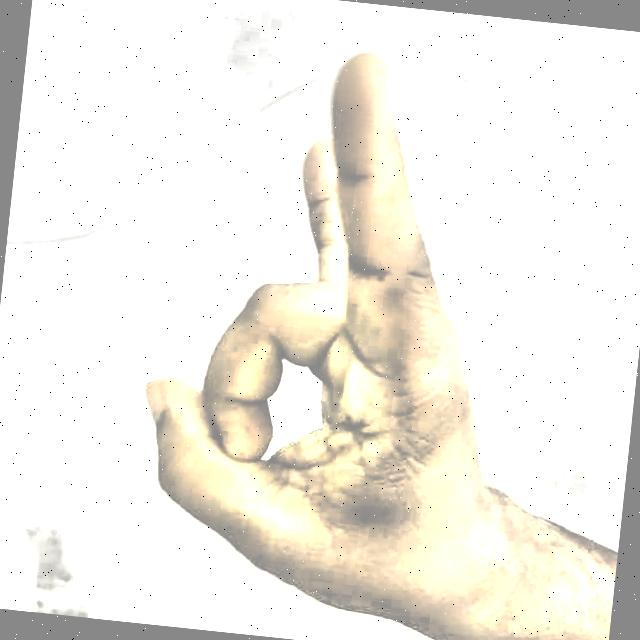Cha: (75, 14, 559, 640)
